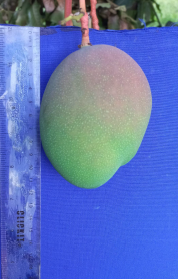Mango-sano: (40, 45, 151, 188)
